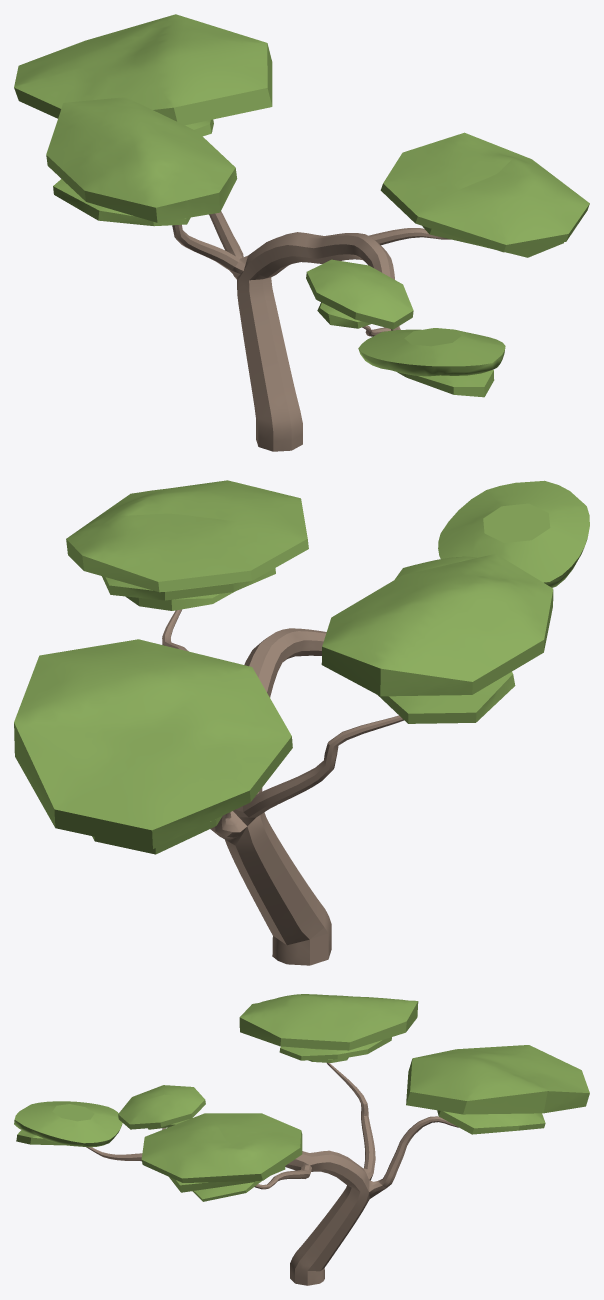
The model's file is TreeCoveC.fbx.
3 views of the same model, one above another, from view 1: azimuth 30°, elevation 25°; view 2: azimuth 150°, elevation 25°; view 3: azimuth 270°, elevation 25° (orthographic). The views are drawn at different scales.
Visible parts, largest first — view 1: tree_cove_c; view 2: tree_cove_c; view 3: tree_cove_c.
Part boxes in pixels (bbox=[...]): tree_cove_c: bbox=[14, 14, 589, 451]; tree_cove_c: bbox=[14, 480, 589, 965]; tree_cove_c: bbox=[14, 994, 589, 1285].
Size of the model in its own units: 670 by 501 by 1110.
